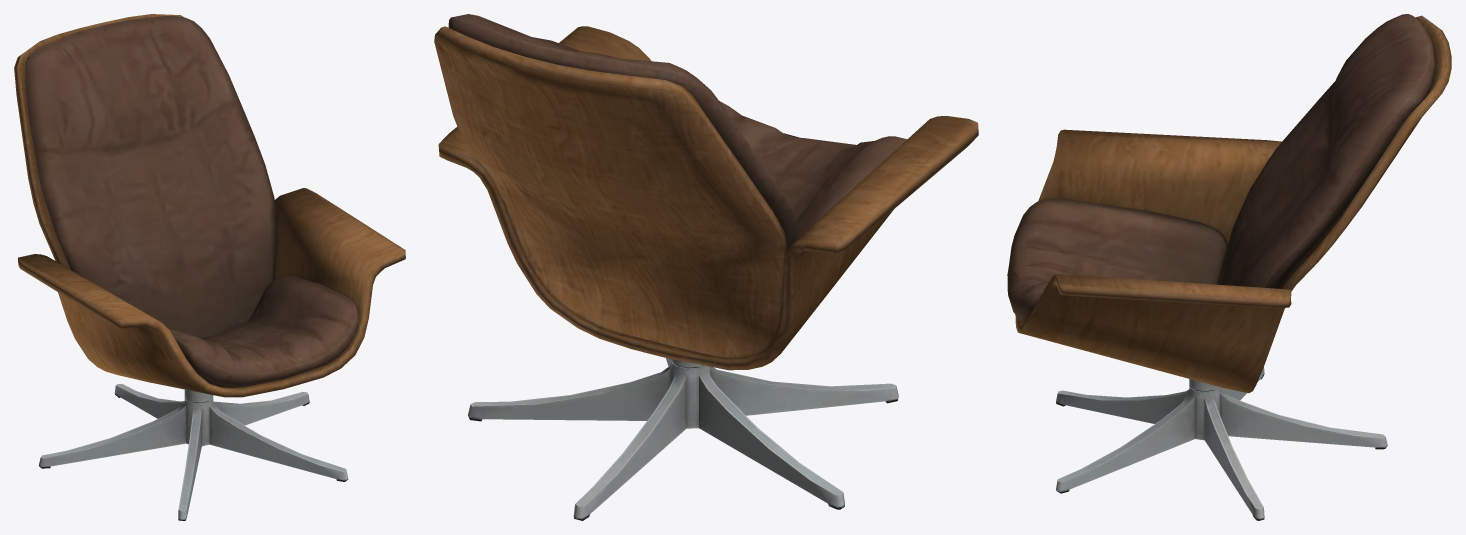
The model's file is mid_century_lounge_chair.glb.
3 renders of one model, left to right at view 1: azimuth 30°, elevation 25°; view 2: azimuth 150°, elevation 25°; view 3: azimuth 270°, elevation 25°, orthographic. The views are drawn at different scales.
Visible parts, largest first — view 1: mid_century_lounge_chair; view 2: mid_century_lounge_chair; view 3: mid_century_lounge_chair.
Boxes of the visible parts, x1,y1,x2,y2 form: mid_century_lounge_chair: (14, 14, 405, 520); mid_century_lounge_chair: (434, 14, 978, 520); mid_century_lounge_chair: (1007, 14, 1451, 520).
Bounding box in the file's own units: 1.01 × 1.17 × 1.19.
Materials: 1 (1 with a texture image).
